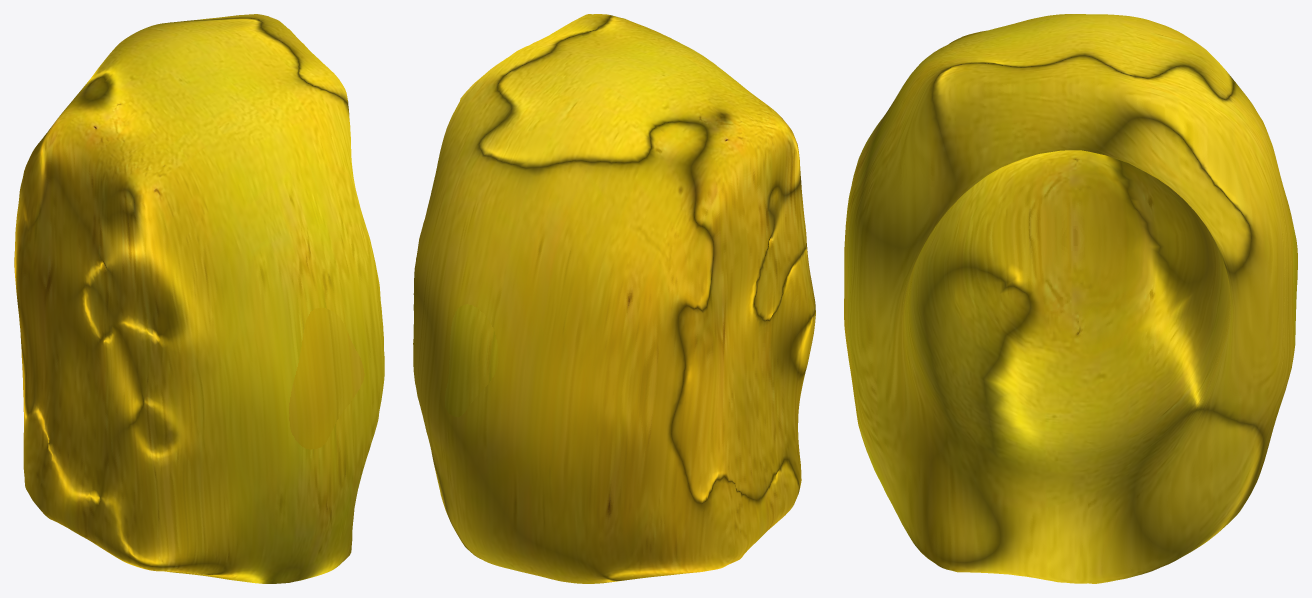
3 views of the same model, side by side, from view 1: azimuth 30°, elevation 25°; view 2: azimuth 150°, elevation 25°; view 3: azimuth 270°, elevation 25° (orthographic). The views are drawn at different scales.
Parts seen in each view (by area): view 1: Renderer Node; view 2: Renderer Node; view 3: Renderer Node.
Part boxes in pixels (x1,y1,x2,y2): Renderer Node: (14, 14, 384, 583); Renderer Node: (413, 14, 815, 583); Renderer Node: (844, 14, 1297, 583).
Size of the model in its own units: 0.3373 by 0.6343 by 0.4963.
Materials: 1 (1 with a texture image).
